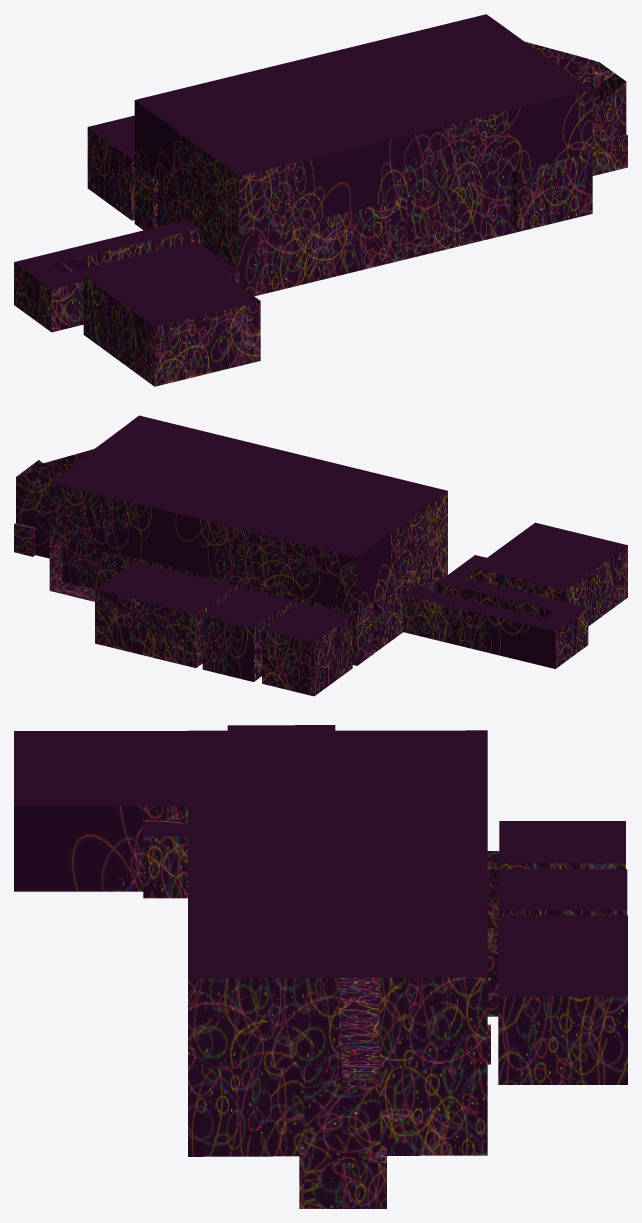
The model's file is suelosytechosyparedes.fbx.
The picture shows the model from 3 angles, top to bottom: view 1: azimuth 30°, elevation 25°; view 2: azimuth 150°, elevation 25°; view 3: azimuth 270°, elevation 25°; orthographic projection. The views are drawn at different scales.
Parts seen in each view (by area): view 1: Cube.097, techos_escaleras; view 2: Cube.097, techos_escaleras, suelo_sala_baja; view 3: techos_escaleras, Cube.097, suelo_sala_baja.
Part boxes in pixels (left/top/right/bottom): Cube.097: left=14, top=42, right=627, bottom=386; techos_escaleras: left=14, top=14, right=591, bottom=326; Cube.097: left=14, top=449, right=627, bottom=696; techos_escaleras: left=50, top=415, right=627, bottom=642; suelo_sala_baja: left=14, top=522, right=376, bottom=653; techos_escaleras: left=14, top=725, right=627, bottom=996; Cube.097: left=14, top=805, right=627, bottom=1208; suelo_sala_baja: left=299, top=977, right=386, bottom=1162.
Bounding box in the file's own units: 3252 × 676 × 1999.
